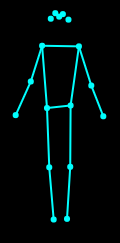mountain: (12, 7, 108, 224)
